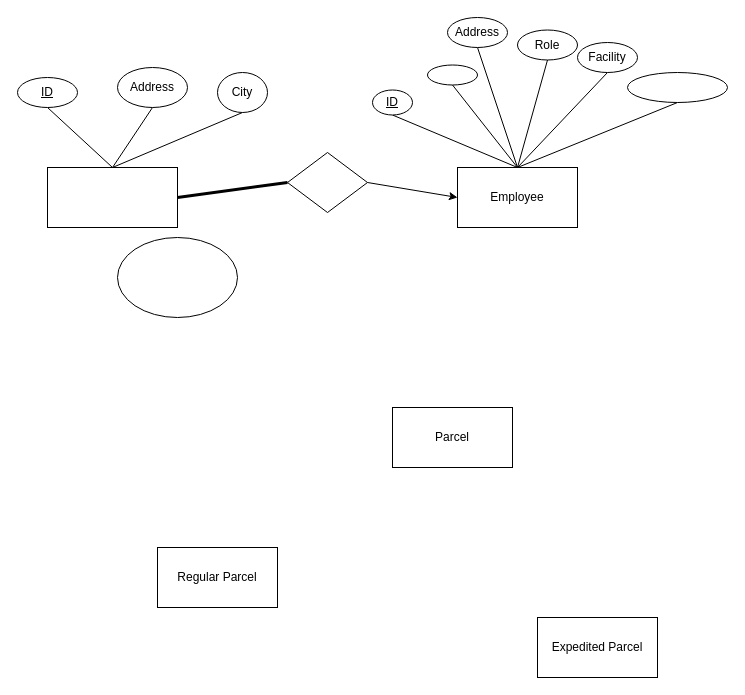
This 745x695 diagram has some shape labels left out. The shapes that lost their labels are listed below. From the top down, each one's centre as x and y in pixels, then its label:
(452,74): Name
(677,87): Supervisor
(112,197): Facilities
(327,182): Manage
(177,277): Regular/expedited
